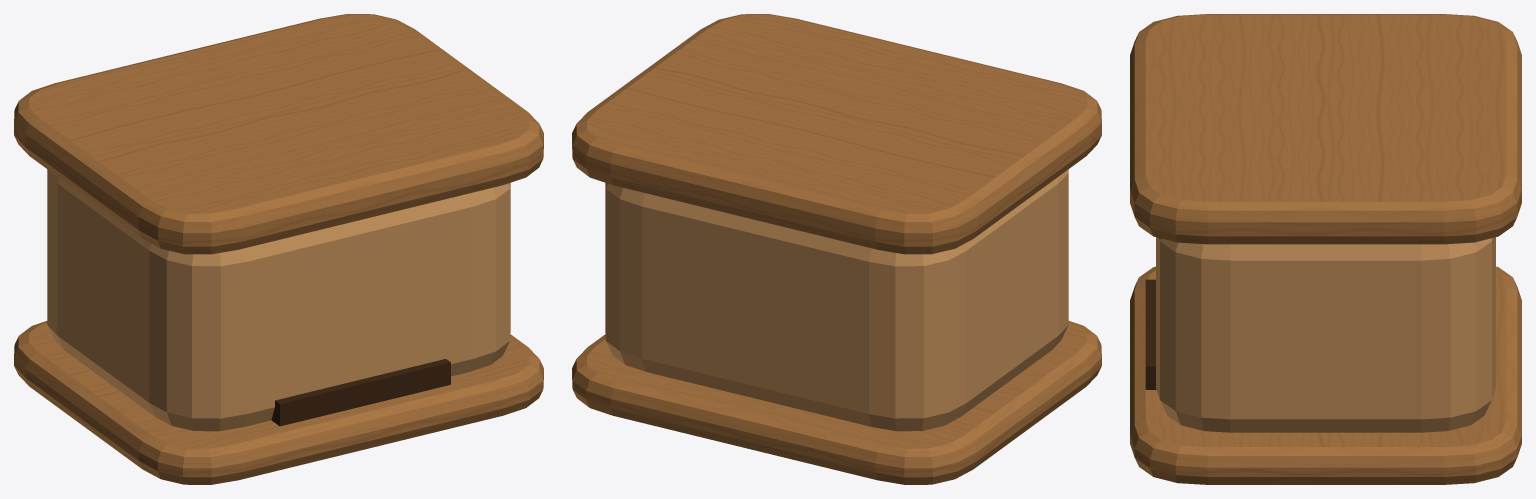
File: bee-box-tier-1.glb
3 views of the same model, side by side, from view 1: azimuth 30°, elevation 25°; view 2: azimuth 150°, elevation 25°; view 3: azimuth 270°, elevation 25° (orthographic). The views are drawn at different scales.
Size of the model in its own units: 0.92 by 0.605 by 0.76.
Materials: 3 (1 with a texture image).
